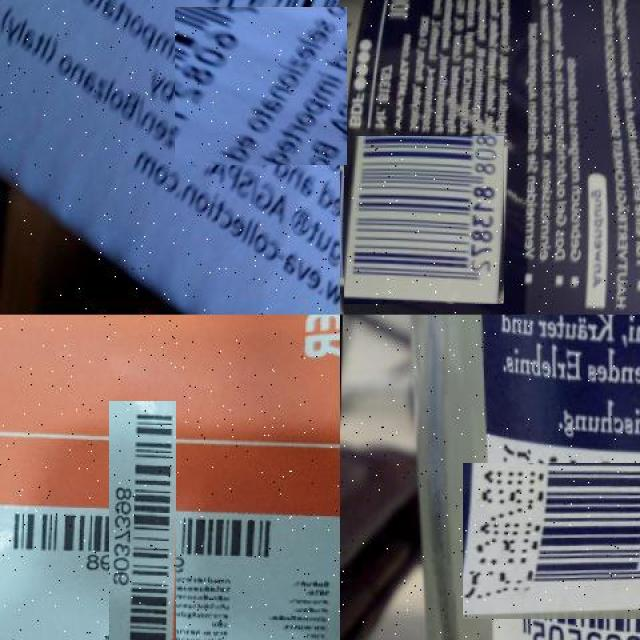Barcode: (55, 456, 232, 632), (473, 453, 640, 630), (178, 3, 343, 169), (342, 137, 506, 302)
